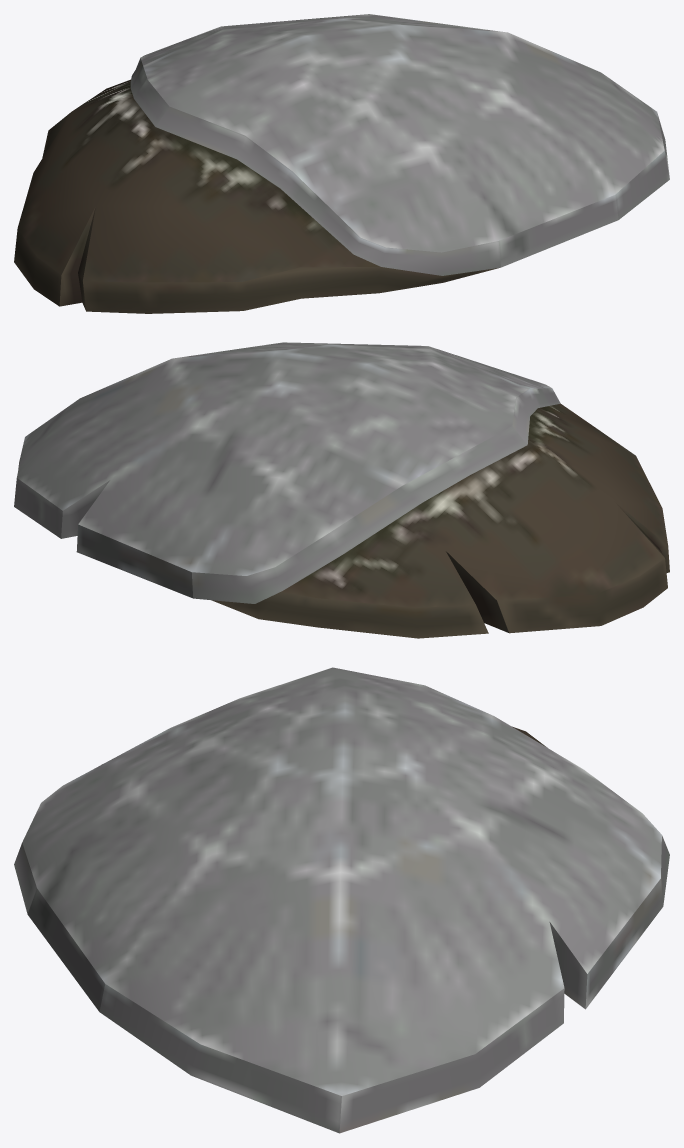
The model's file is Item_Enemy_53.glb.
3 renders of one model, top to bottom at view 1: azimuth 30°, elevation 25°; view 2: azimuth 150°, elevation 25°; view 3: azimuth 270°, elevation 25°, orthographic. The views are drawn at different scales.
Parts seen in each view (by area): view 1: Item_Enemy_53; view 2: Item_Enemy_53; view 3: Item_Enemy_53.
Part boxes in pixels (x1=…): Item_Enemy_53: x1=14, y1=14, x2=669, y2=313; Item_Enemy_53: x1=14, y1=342, x2=669, y2=638; Item_Enemy_53: x1=14, y1=667, x2=669, y2=1133.
Size of the model in its own units: 0.9368 by 0.2664 by 0.7214.
Materials: 1 (1 with a texture image).
